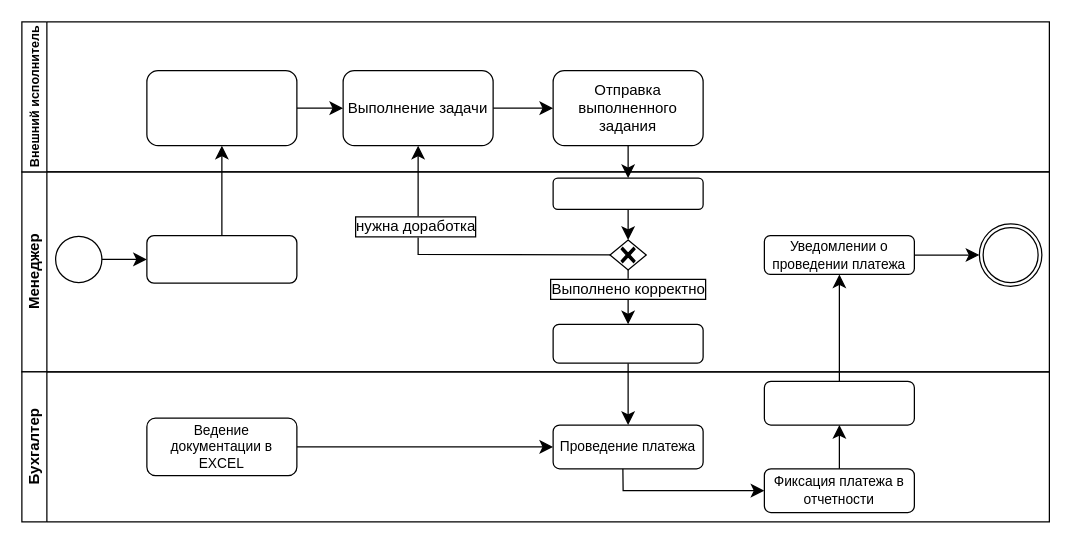
This 1071x544 diagram has some shape labels left out. Each missing label, with the centre of its shape:
"Отправка отчета о платеже" goes at (x=838, y=402).
"Получение задачи" goes at (x=221, y=107).
"Проверка задания" goes at (x=627, y=193).
"Создание задачи в CRM" goes at (x=221, y=258).
"Формирование задачи на оплату" goes at (x=627, y=343).
